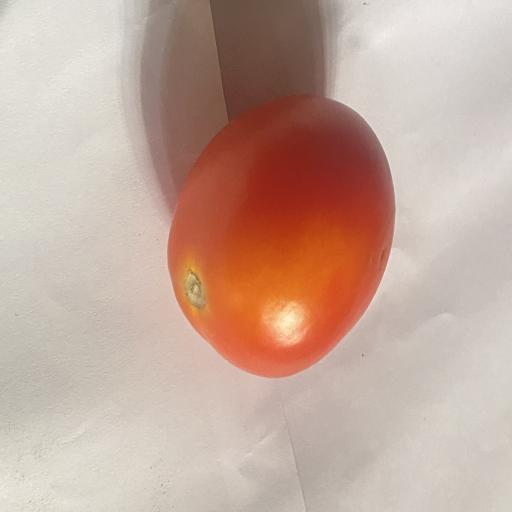ripe: (168, 95, 395, 377)
